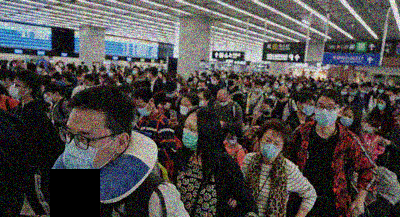with_mask: (62, 124, 114, 178), (315, 102, 338, 128), (259, 136, 283, 159), (181, 121, 198, 150), (7, 81, 23, 101), (134, 103, 151, 117), (339, 112, 353, 127), (301, 102, 314, 117), (178, 102, 191, 116), (225, 135, 237, 146), (276, 89, 286, 100), (45, 93, 55, 104), (197, 95, 205, 108), (260, 107, 271, 116), (217, 99, 228, 108), (377, 101, 385, 111), (348, 89, 357, 97), (226, 79, 235, 87), (164, 91, 173, 99), (210, 78, 217, 86), (366, 126, 373, 134), (340, 89, 347, 96), (268, 95, 275, 102), (253, 86, 259, 93), (125, 77, 131, 84), (359, 88, 365, 94), (130, 69, 136, 75), (371, 87, 377, 93), (378, 89, 383, 94)
